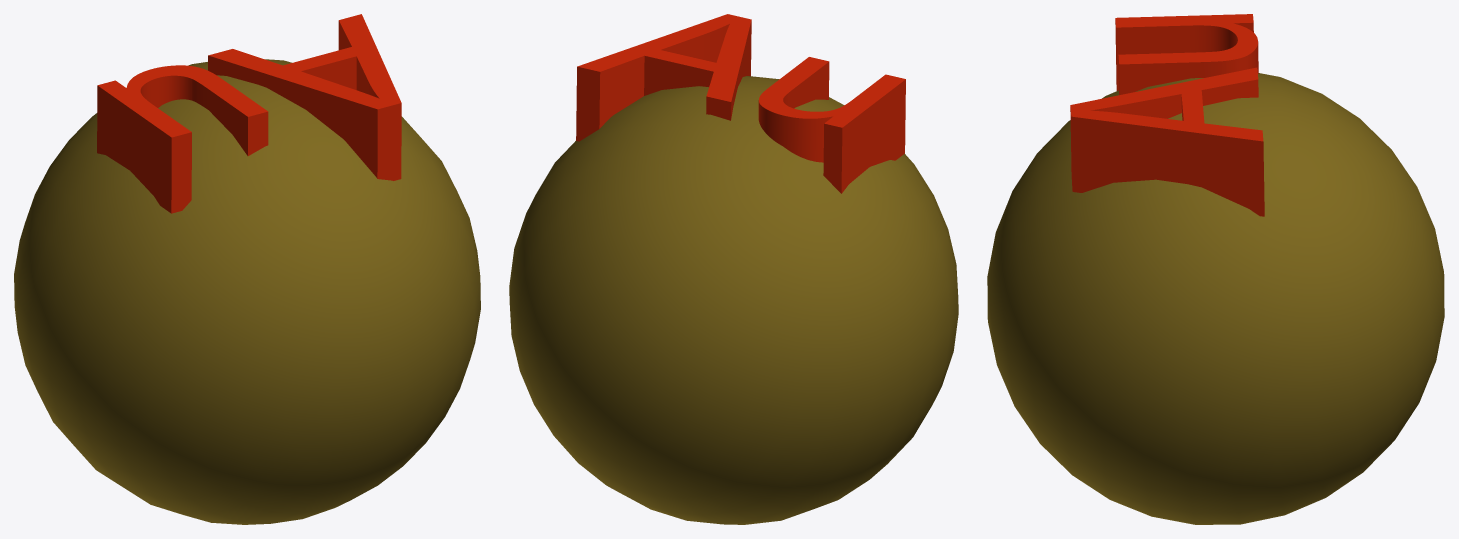
3 renders of one model, left to right at view 1: azimuth 30°, elevation 25°; view 2: azimuth 150°, elevation 25°; view 3: azimuth 270°, elevation 25°, orthographic. The views are drawn at different scales.
Parts seen in each view (by area): view 1: Au; view 2: Au; view 3: Au.
Boxes of the visible parts, x1,y1,x2,y2 form: Au: (14,14,480,524); Au: (509,14,958,524); Au: (987,14,1444,524).
Size of the model in its own units: 38.72 by 39.93 by 38.6.
